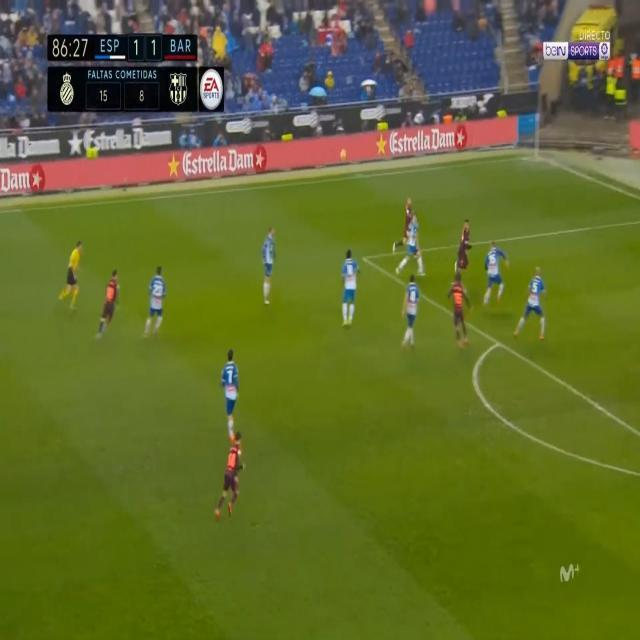player: (214, 429, 247, 523), (517, 262, 551, 345), (217, 346, 245, 438), (255, 221, 281, 306), (96, 263, 125, 338), (144, 262, 172, 339), (338, 245, 362, 328), (481, 239, 509, 310), (401, 206, 427, 278), (448, 274, 473, 348), (400, 271, 423, 351), (452, 216, 475, 289)
referee: (58, 236, 92, 317)
